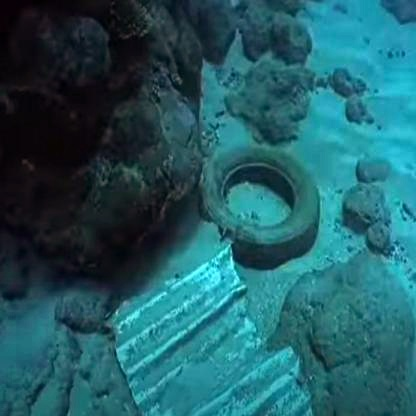metal: (91, 245, 355, 416)
tire: (189, 149, 357, 272)
